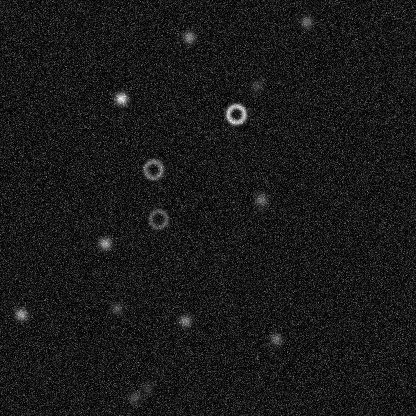Ring: (141, 157, 165, 181), (146, 206, 170, 230), (223, 102, 247, 126)
Spot: (126, 389, 142, 405), (108, 300, 124, 316), (298, 13, 314, 29), (248, 77, 264, 93), (13, 306, 29, 322), (113, 90, 129, 106), (253, 191, 269, 207), (267, 331, 283, 347), (97, 235, 113, 251), (177, 312, 193, 328), (181, 29, 197, 45), (139, 380, 155, 396)
